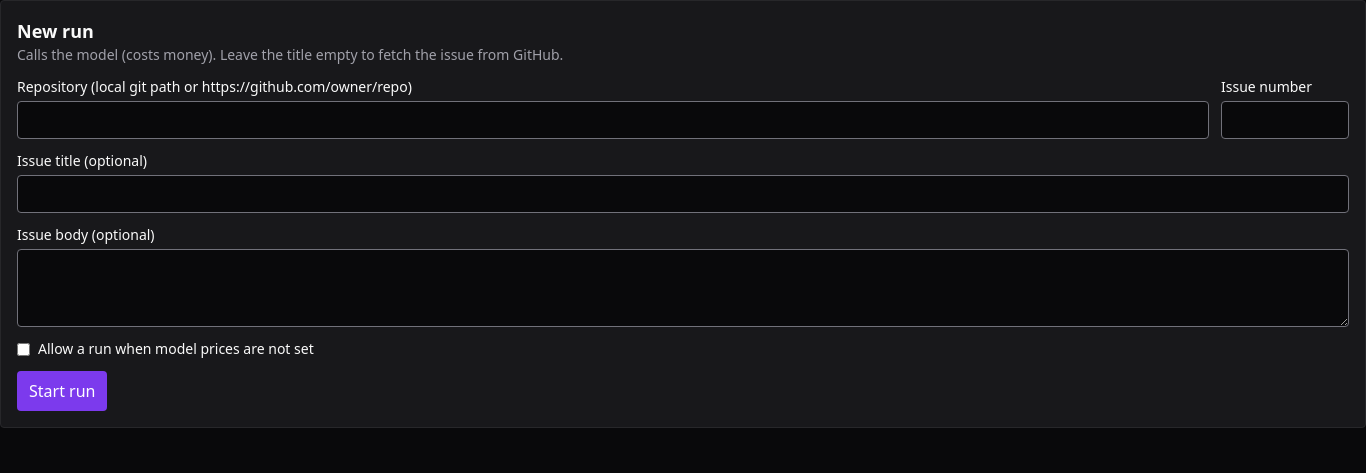
RunForm › shows the server's reason when a run cannot start
Type "/r" into the field labelled "Repository (local git path or https://github.com/owner/repo)" at {"x": 613, "y": 120}, box [17,101,1209,139]
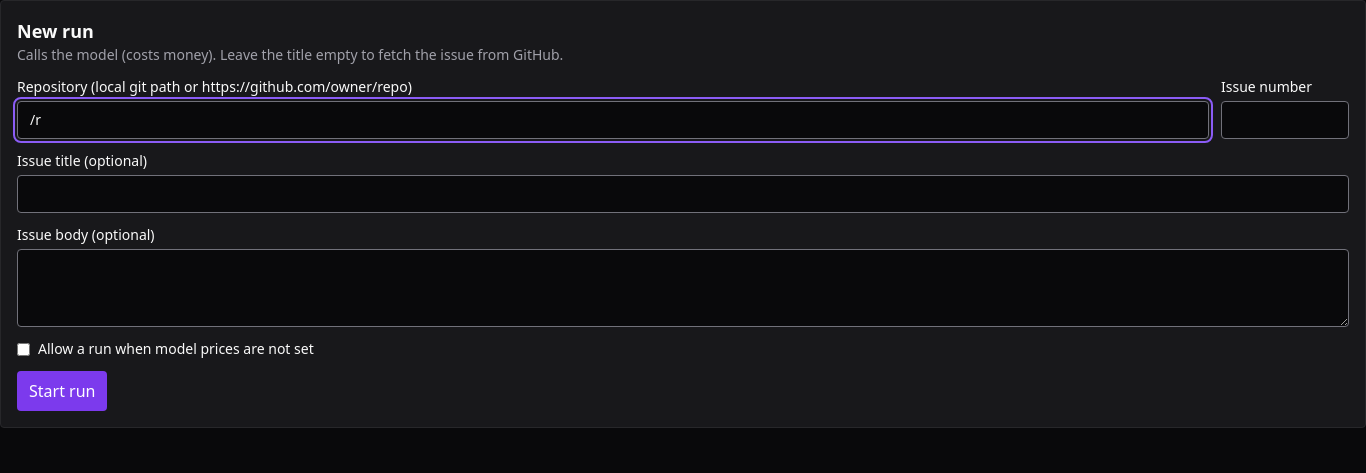
Type "1" into the field labelled "Issue number" at {"x": 1285, "y": 120}, box [1221,101,1349,139]
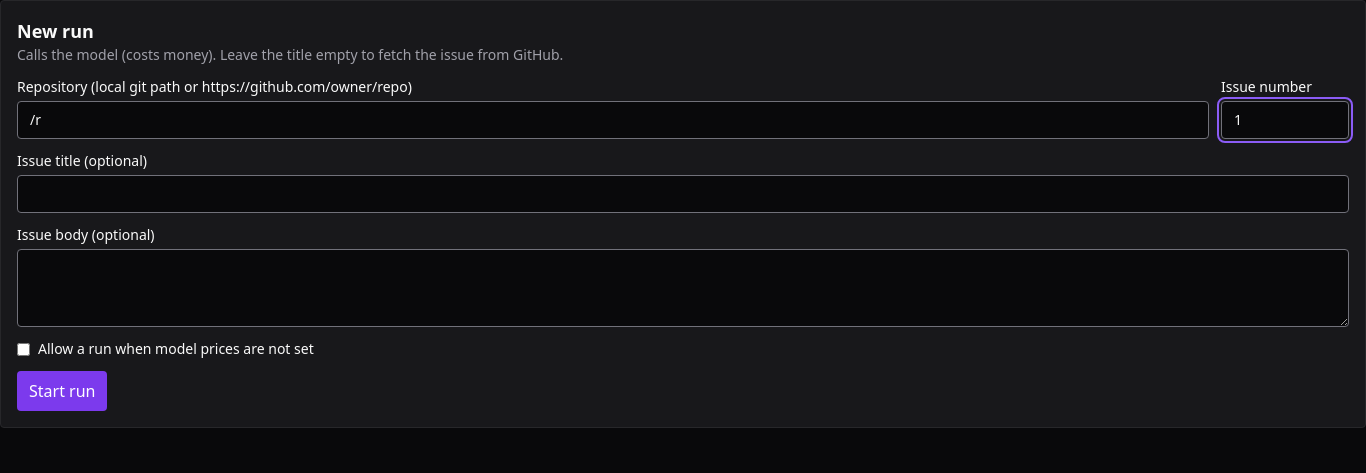
Click the button "Start run" at {"x": 62, "y": 391}, box [17,371,108,411]
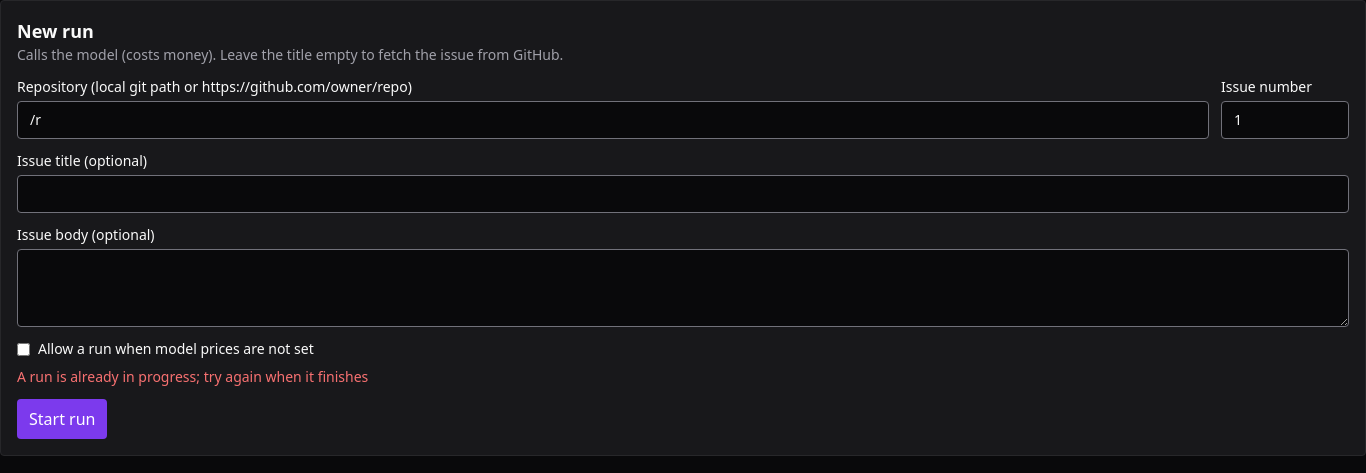
Expected: the message shows "already in progress", [17,367,368,386]
